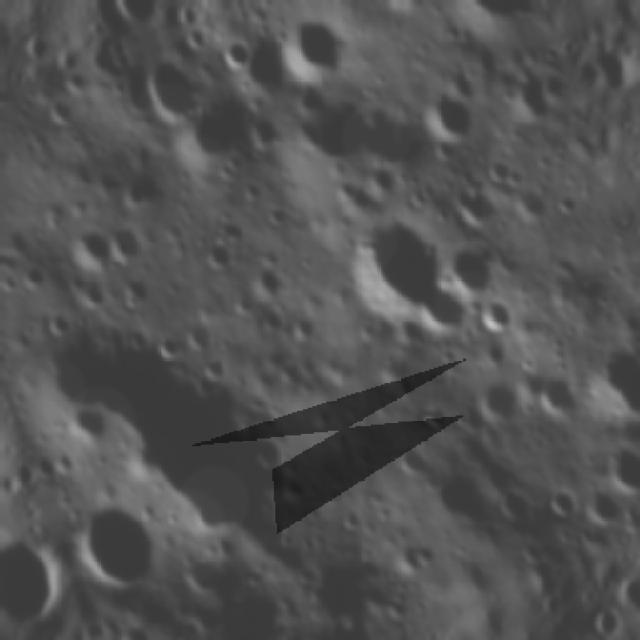crater: (325, 189, 458, 331), (334, 77, 455, 198), (62, 488, 173, 610), (273, 80, 379, 186), (156, 92, 266, 191), (287, 543, 398, 640), (126, 37, 228, 135), (274, 0, 365, 98), (572, 321, 640, 433), (428, 0, 552, 60), (420, 462, 505, 548), (410, 77, 485, 166), (228, 24, 308, 107), (520, 348, 598, 432), (460, 361, 535, 442), (49, 212, 123, 286), (408, 274, 481, 346), (433, 230, 504, 304), (110, 152, 182, 222), (496, 67, 562, 133), (324, 165, 388, 226), (446, 174, 506, 238), (177, 544, 238, 604), (97, 214, 155, 277), (591, 429, 640, 502), (106, 265, 166, 324), (58, 396, 115, 453), (385, 528, 443, 581), (502, 178, 558, 232), (468, 288, 522, 342), (384, 303, 438, 357), (63, 266, 115, 322), (240, 256, 291, 309), (387, 435, 435, 488), (489, 481, 537, 534), (174, 310, 223, 361), (575, 479, 622, 530), (36, 90, 84, 139), (537, 480, 585, 529), (280, 302, 328, 349), (244, 428, 288, 478), (215, 26, 257, 77), (0, 211, 38, 266), (61, 62, 107, 107), (479, 148, 523, 194), (193, 343, 238, 386), (12, 256, 54, 298), (330, 502, 372, 543), (33, 300, 76, 340), (195, 238, 237, 278), (272, 468, 313, 508), (548, 184, 588, 224), (28, 442, 63, 484), (151, 328, 186, 367), (47, 443, 82, 482), (108, 614, 160, 640), (234, 174, 268, 212), (534, 32, 564, 70), (0, 261, 25, 301), (376, 0, 434, 15)
